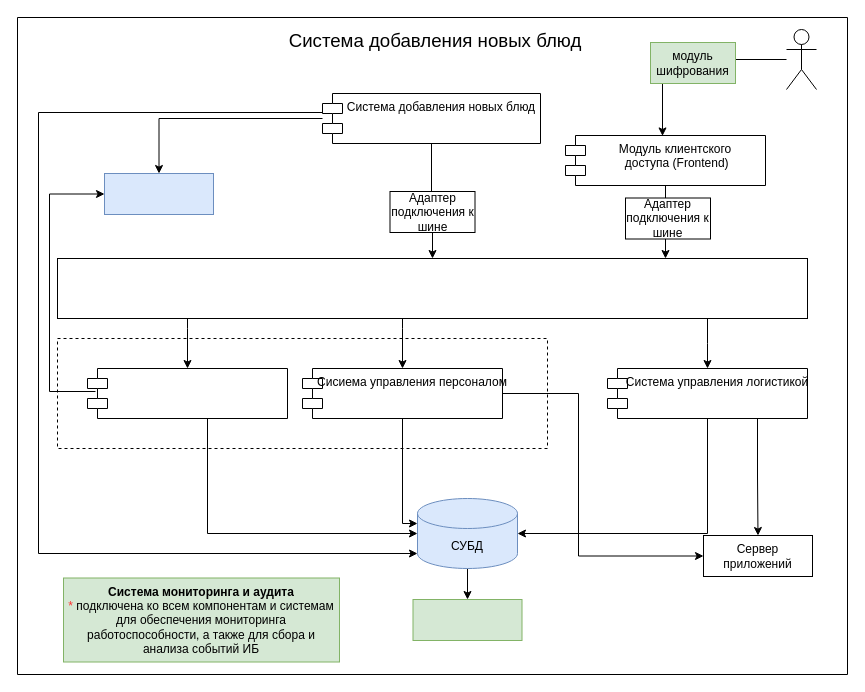
This 865x692 diagram has some shape labels left out. The shapes that lost their labels are listed below. From the top down, each one's centre as x and y in pixels, then its label:
At point (801, 59): "Технолог".
At point (159, 193): "Среда контейнеризации K8S".
At point (432, 288): "ESB".
At point (187, 393): "Система управления складом".
At point (467, 619): "система резервного копирования".
